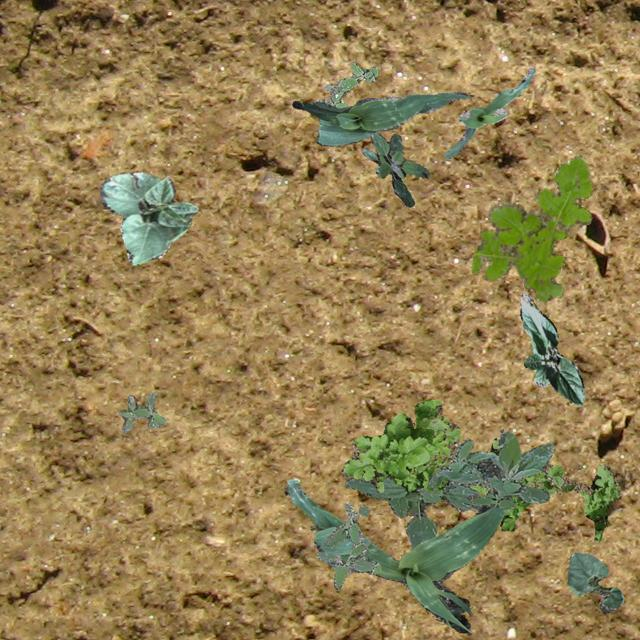crop: (284, 478, 506, 632), (344, 476, 482, 548), (290, 90, 470, 144), (99, 172, 198, 264), (442, 66, 534, 158), (520, 292, 584, 404), (566, 552, 622, 612)
weed: (386, 436, 620, 540), (470, 154, 592, 300), (341, 398, 458, 492), (426, 430, 554, 508), (316, 502, 380, 588), (361, 130, 428, 206), (318, 61, 378, 108), (119, 390, 164, 432)
